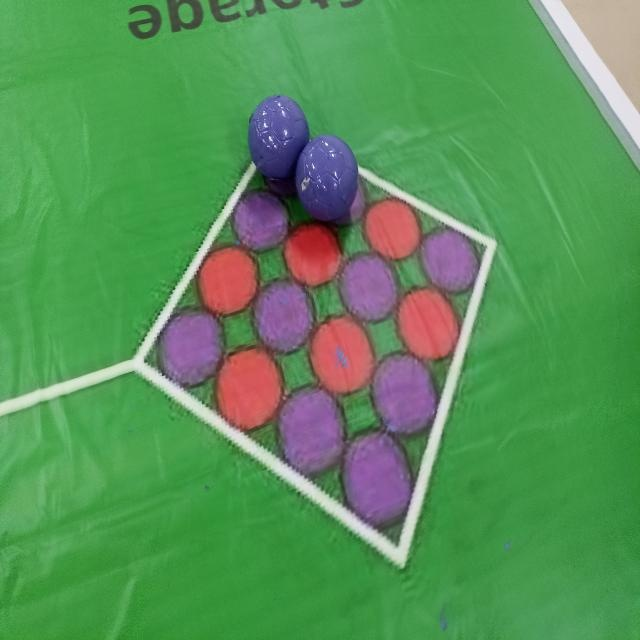purple_ball: (296, 135, 358, 222), (250, 96, 309, 184)
